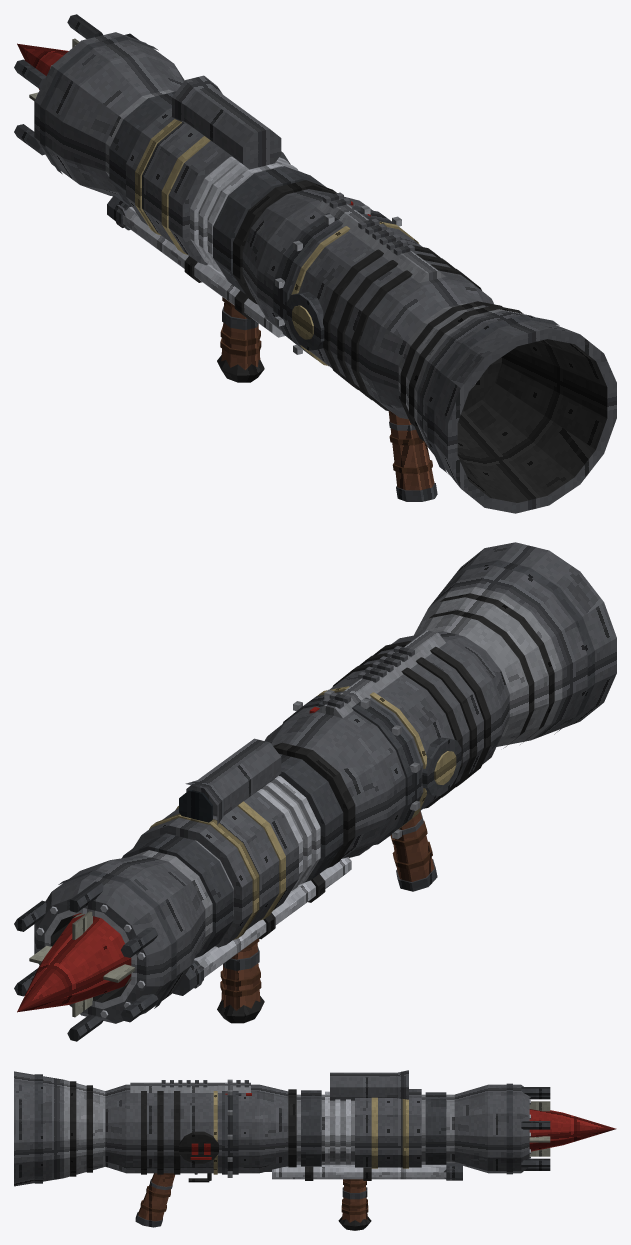
File: rocket.glb
3 views of the same model, one above another, from view 1: azimuth 30°, elevation 25°; view 2: azimuth 150°, elevation 25°; view 3: azimuth 270°, elevation 25° (orthographic). The views are drawn at different scales.
Parts seen in each view (by area): view 1: RocketLauncher_PSX_Clean; view 2: RocketLauncher_PSX_Clean; view 3: RocketLauncher_PSX_Clean.
Part boxes in pixels (left/top/right/bottom): RocketLauncher_PSX_Clean: left=14, top=14, right=616, bottom=513; RocketLauncher_PSX_Clean: left=14, top=542, right=616, bottom=1041; RocketLauncher_PSX_Clean: left=14, top=1070, right=616, bottom=1230.
Bounding box in the file's own units: 0.2746 × 0.4154 × 1.45.
1 material, 1 textured.
